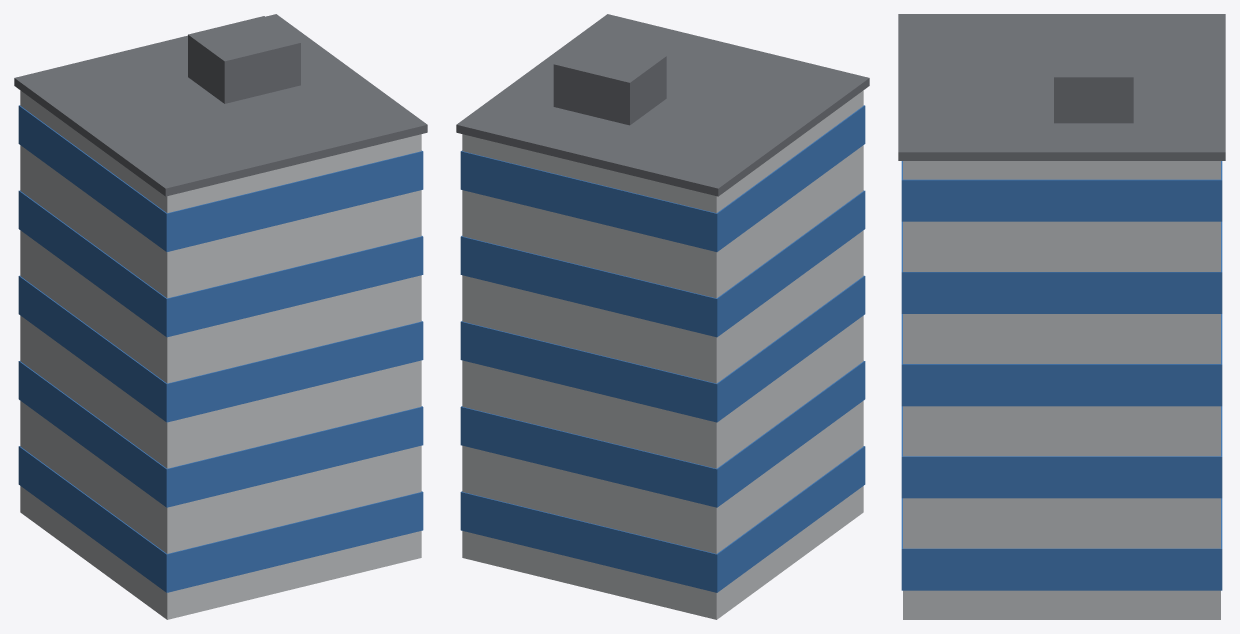
The model's file is Building_Background_01.fbx.
3 views of the same model, side by side, from view 1: azimuth 30°, elevation 25°; view 2: azimuth 150°, elevation 25°; view 3: azimuth 270°, elevation 25° (orthographic). The views are drawn at different scales.
Parts seen in each view (by area): view 1: Building_Background_01_Structure, Building_Background_01_Windows, Building_Background_01_Trim; view 2: Building_Background_01_Structure, Building_Background_01_Windows, Building_Background_01_Trim; view 3: Building_Background_01_Structure, Building_Background_01_Windows, Building_Background_01_Trim.
Boxes of the visible parts, left/top/right/bottom form: Building_Background_01_Structure: left=20, top=90, right=421, bottom=619; Building_Background_01_Windows: left=18, top=105, right=423, bottom=592; Building_Background_01_Trim: left=14, top=14, right=427, bottom=196; Building_Background_01_Structure: left=462, top=90, right=863, bottom=619; Building_Background_01_Windows: left=460, top=105, right=865, bottom=592; Building_Background_01_Trim: left=456, top=14, right=869, bottom=196; Building_Background_01_Structure: left=903, top=161, right=1220, bottom=619; Building_Background_01_Windows: left=901, top=161, right=1222, bottom=590; Building_Background_01_Trim: left=898, top=14, right=1225, bottom=160.
Size of the model in its own units: 10.3 by 17.9 by 10.3.
